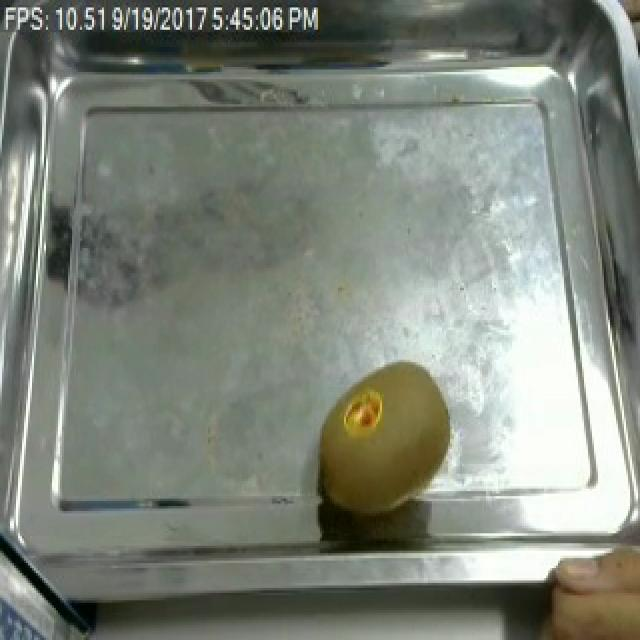Fruit: (310, 355, 464, 526), (536, 533, 640, 640)
